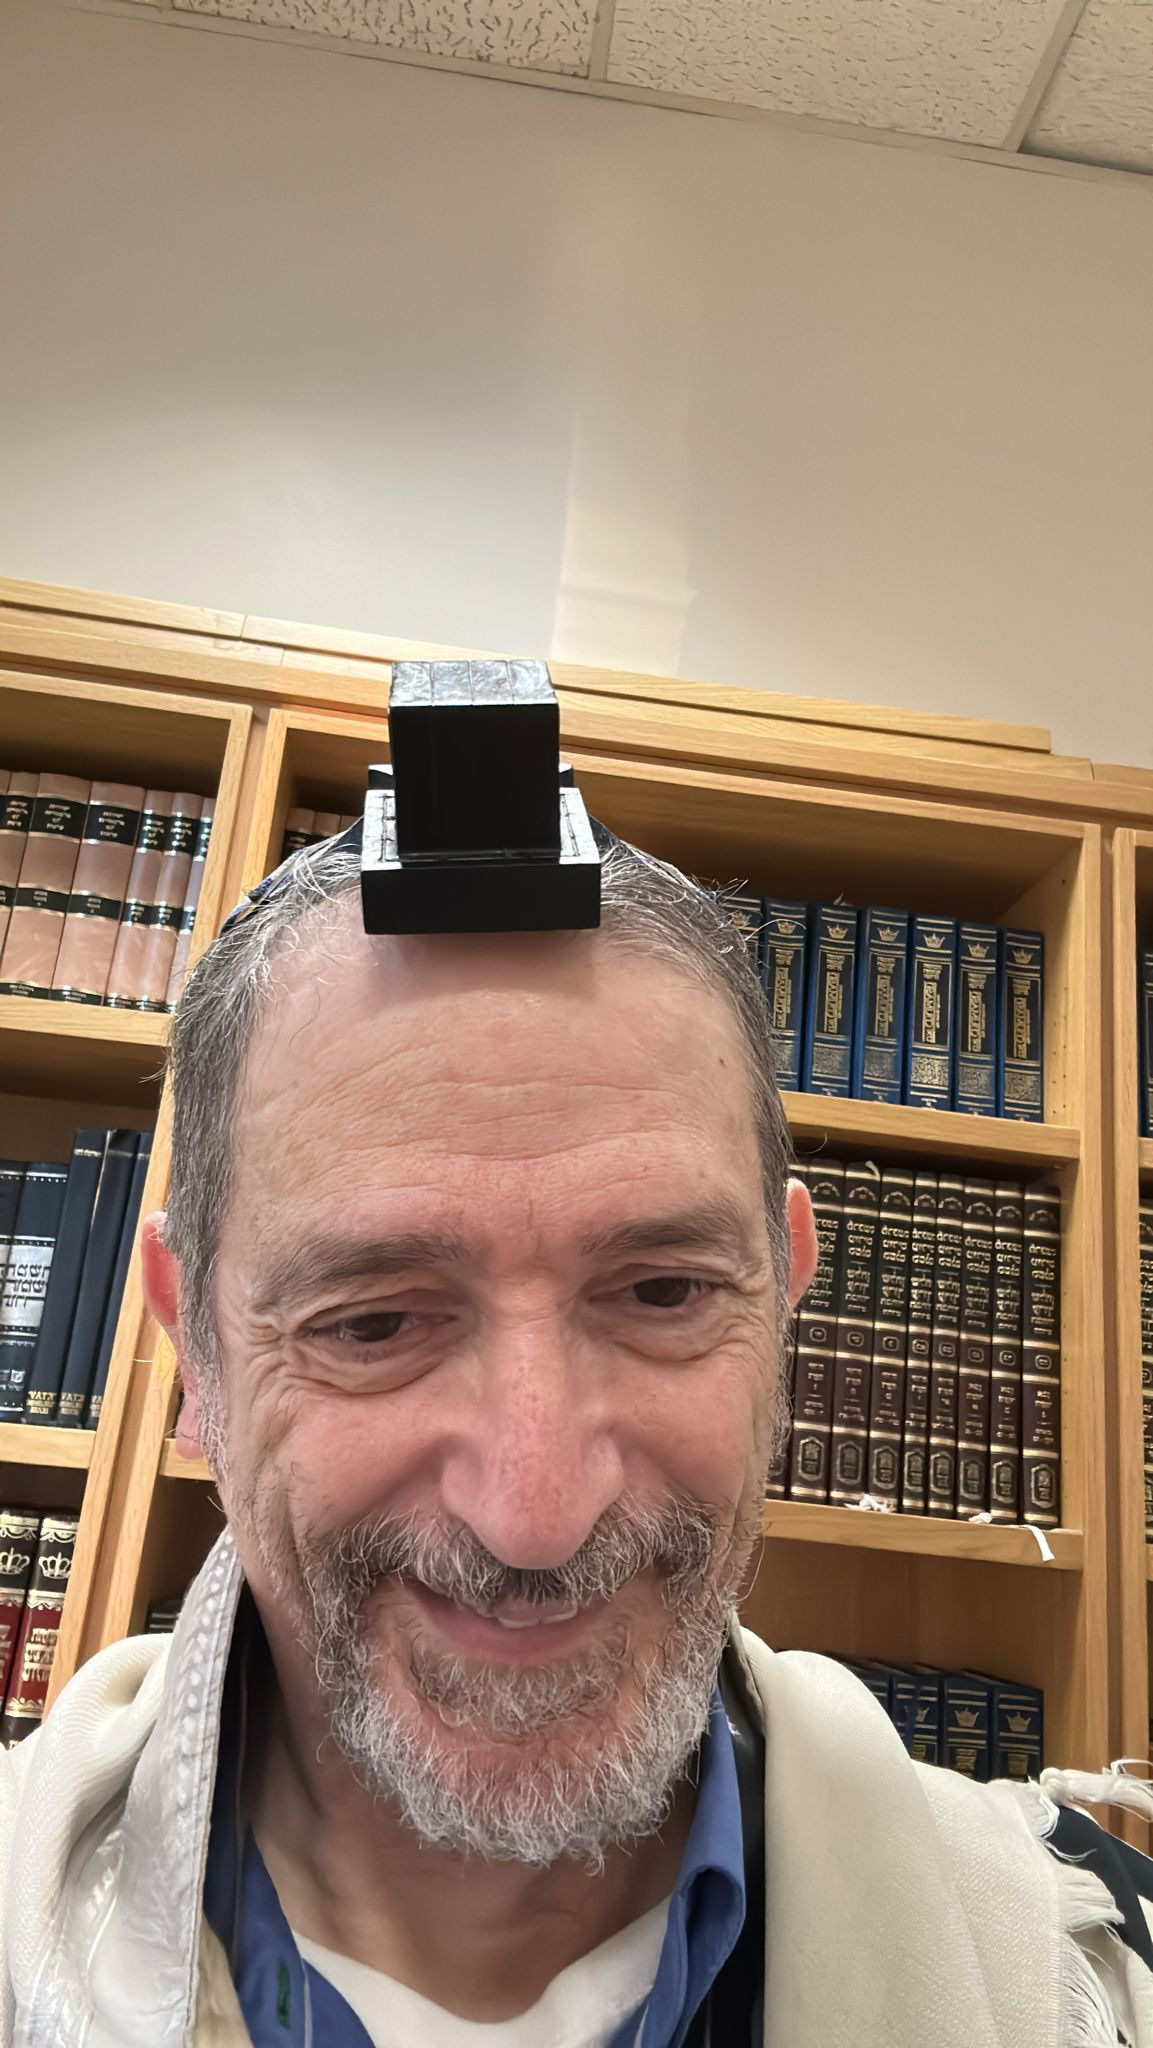tefillin: (357, 657, 605, 938)
